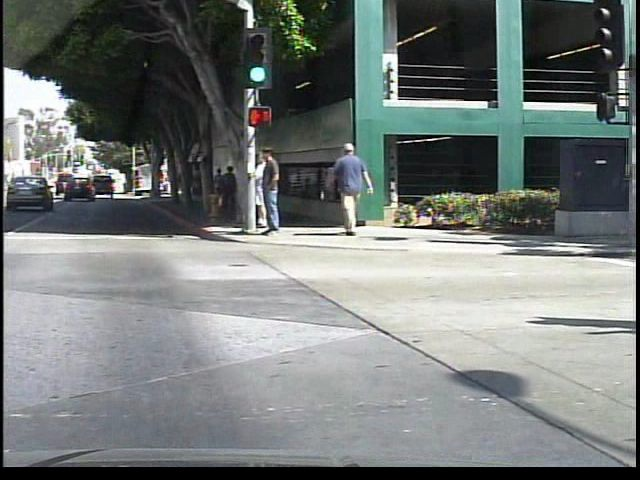person: (330, 139, 378, 237), (249, 140, 288, 243), (245, 147, 274, 229), (224, 164, 245, 219)
